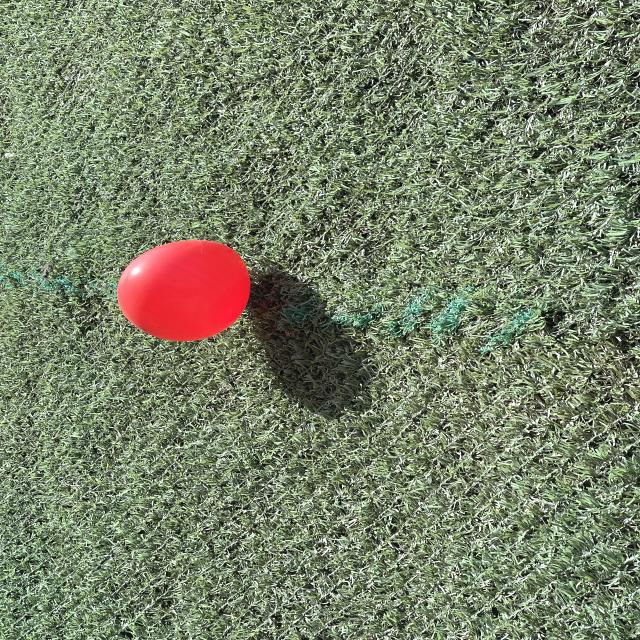balloon: (117, 240, 250, 341)
